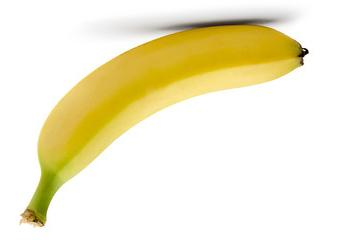banana: (0, 0, 347, 240)
